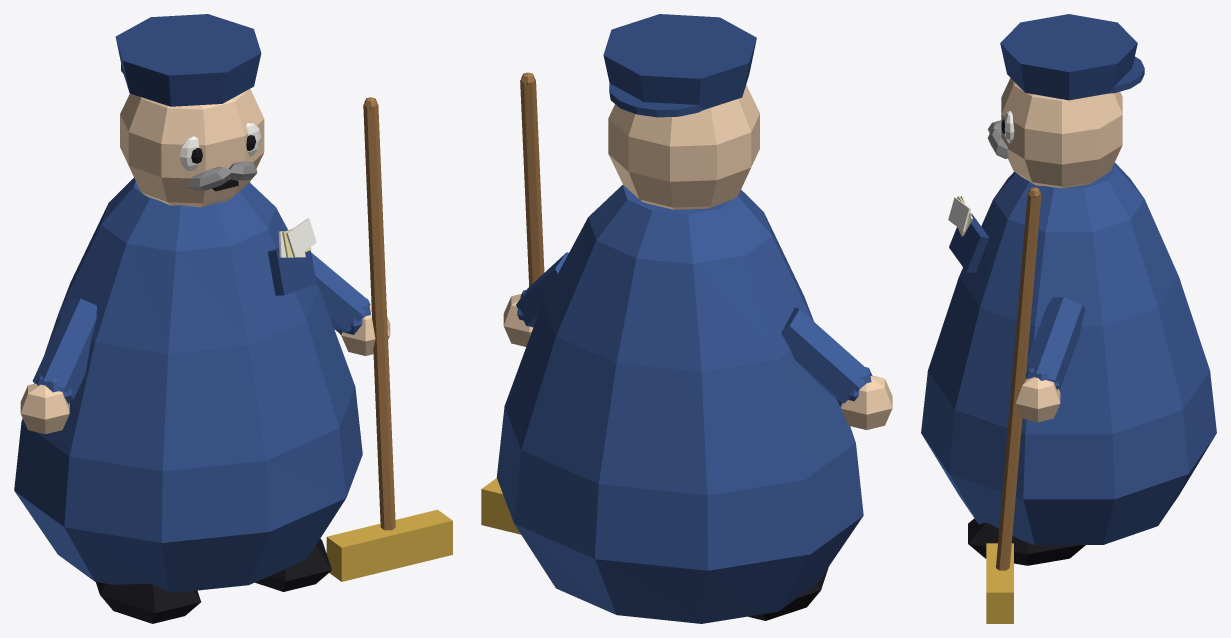
The model's file is npc_conserje_escuela.glb.
The picture shows the model from 3 angles, left to right: view 1: azimuth 30°, elevation 25°; view 2: azimuth 150°, elevation 25°; view 3: azimuth 270°, elevation 25°; orthographic projection. The views are drawn at different scales.
Visible parts, largest first — view 1: body_janitor_overall, head_skin_crema, cap_janitor_cap, props_broom_stick, arms_janitor_overall, props_broom_head, legs_black, arms_skin_crema, body_overall_pocket, face_hair_grey, deck_white, face_white; view 2: body_janitor_overall, head_skin_crema, cap_janitor_cap (×2), arms_janitor_overall, props_broom_stick, arms_skin_crema, props_broom_head, legs_black; view 3: body_janitor_overall, head_skin_crema, cap_janitor_cap (×2), props_broom_stick, arms_janitor_overall, legs_black, props_broom_head, arms_skin_crema, body_overall_pocket, deck_white, face_hair_grey.
Boxes of the visible parts, left/top/right/bottom form: body_janitor_overall: left=14, top=178, right=362, bottom=592; head_skin_crema: left=120, top=89, right=264, bottom=207; cap_janitor_cap: left=115, top=14, right=261, bottom=106; props_broom_stick: left=363, top=97, right=395, bottom=530; arms_janitor_overall: left=32, top=252, right=370, bottom=404; props_broom_head: left=326, top=509, right=452, bottom=581; legs_black: left=96, top=538, right=331, bottom=623; arms_skin_crema: left=20, top=304, right=390, bottom=434; body_overall_pocket: left=268, top=248, right=316, bottom=295; face_hair_grey: left=186, top=161, right=257, bottom=190; deck_white: left=278, top=218, right=316, bottom=257; face_white: left=179, top=123, right=261, bottom=170; body_janitor_overall: left=496, top=185, right=863, bottom=623; head_skin_crema: left=608, top=85, right=759, bottom=209; cap_janitor_cap (×2): left=603, top=14, right=756, bottom=117; arms_janitor_overall: left=516, top=252, right=872, bottom=405; props_broom_stick: left=520, top=72, right=544, bottom=286; arms_skin_crema: left=503, top=294, right=892, bottom=429; props_broom_head: left=481, top=478, right=520, bottom=534; legs_black: left=748, top=567, right=828, bottom=620; body_janitor_overall: left=921, top=162, right=1216, bottom=544; head_skin_crema: left=1001, top=78, right=1122, bottom=188; cap_janitor_cap (×2): left=1000, top=14, right=1144, bottom=100; props_broom_stick: left=996, top=187, right=1041, bottom=570; arms_janitor_overall: left=1025, top=297, right=1085, bottom=389; legs_black: left=968, top=518, right=1085, bottom=565; props_broom_head: left=986, top=543, right=1013, bottom=623; arms_skin_crema: left=1015, top=377, right=1060, bottom=422; body_overall_pocket: left=949, top=214, right=989, bottom=272; deck_white: left=948, top=195, right=972, bottom=236; face_hair_grey: left=988, top=120, right=1010, bottom=158.
Bounding box in the file's own units: 1.24 × 1.56 × 0.86.
